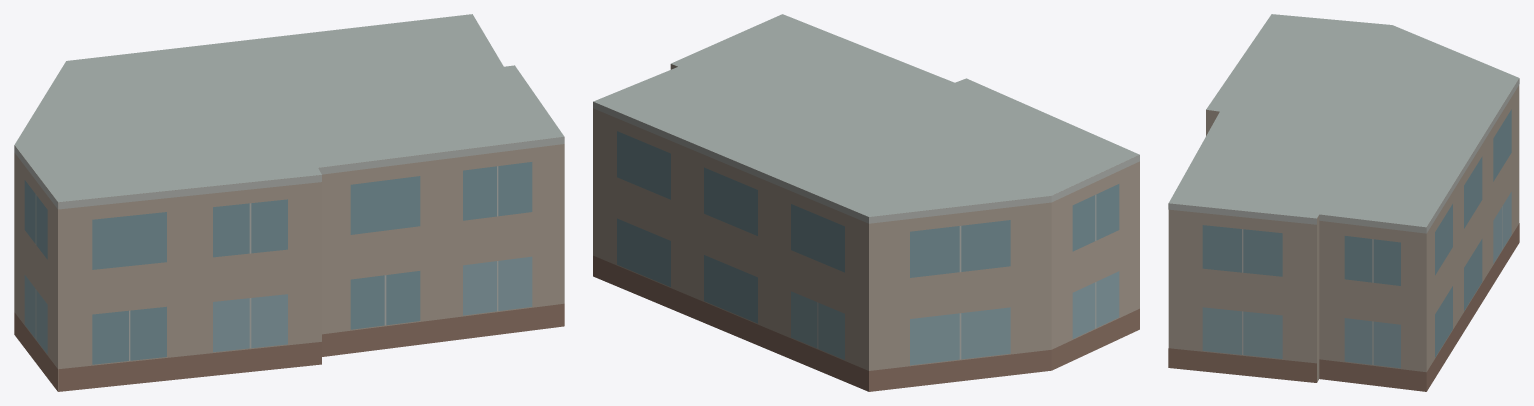
Rendered from survey-upis-32934208.glb.
The picture shows the model from 3 angles, left to right: view 1: azimuth 30°, elevation 25°; view 2: azimuth 150°, elevation 25°; view 3: azimuth 270°, elevation 25°; orthographic projection. The views are drawn at different scales.
Visible parts, largest first — view 1: survey-upis-32934208.tmp; view 2: survey-upis-32934208.tmp; view 3: survey-upis-32934208.tmp.
Part boxes in pixels (x1=…): survey-upis-32934208.tmp: x1=14, y1=14, x2=564, y2=391; survey-upis-32934208.tmp: x1=593, y1=14, x2=1139, y2=391; survey-upis-32934208.tmp: x1=1168, y1=14, x2=1519, y2=391.
Bounding box in the file's own units: 17.81 × 6.4 × 12.39.
